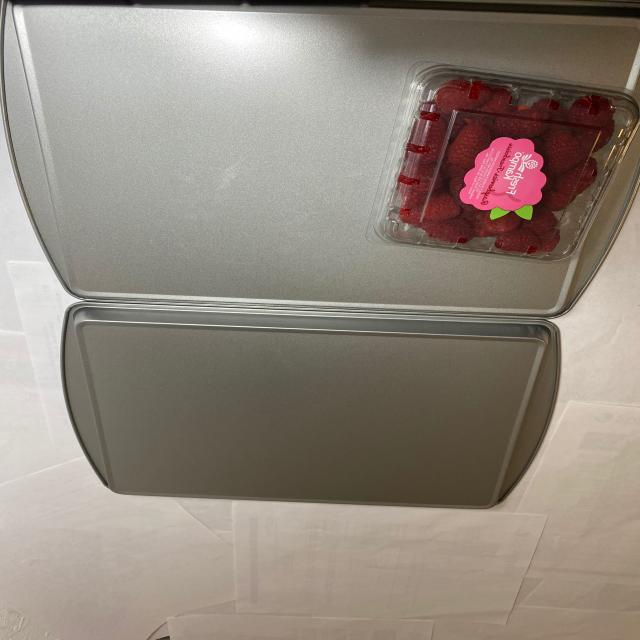Raspberry: (390, 85, 616, 250)
